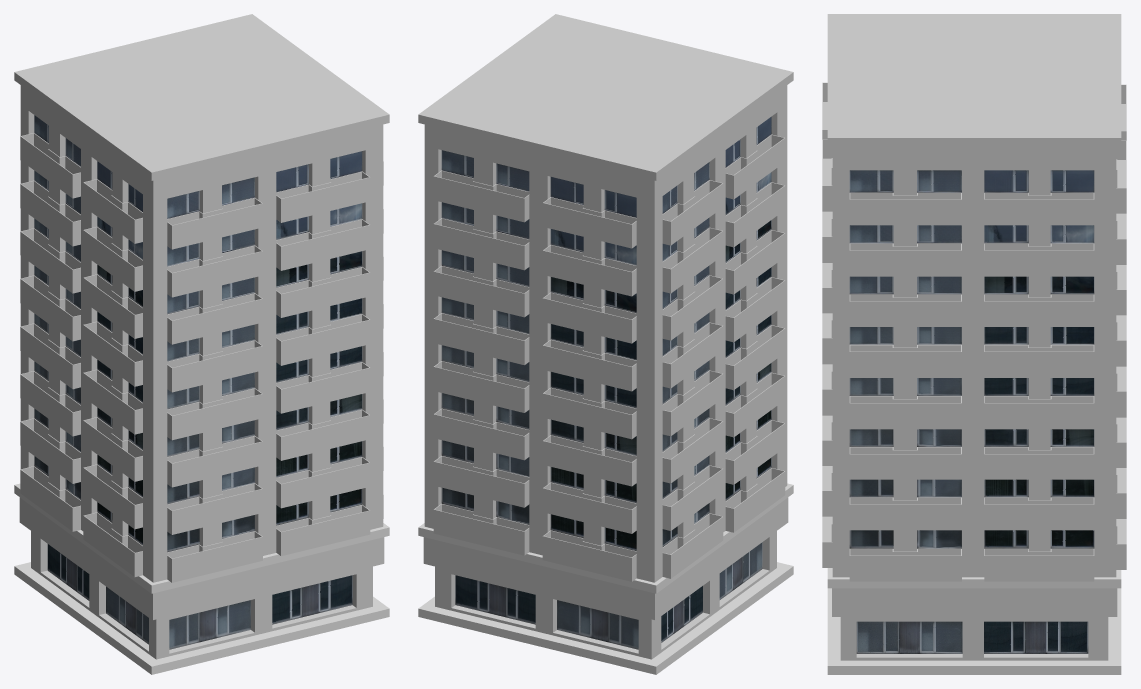
The model's file is BlueBuildings.fbx.
3 renders of one model, left to right at view 1: azimuth 30°, elevation 25°; view 2: azimuth 150°, elevation 25°; view 3: azimuth 270°, elevation 25°, orthographic. The views are drawn at different scales.
Parts seen in each view (by area): view 1: building1; view 2: building1; view 3: building1.
Boxes of the visible parts, bbox=[...] form: building1: bbox=[14, 14, 389, 674]; building1: bbox=[418, 14, 793, 674]; building1: bbox=[822, 14, 1126, 674].
Size of the model in its own units: 0.6382 by 1.24 by 0.6382.
